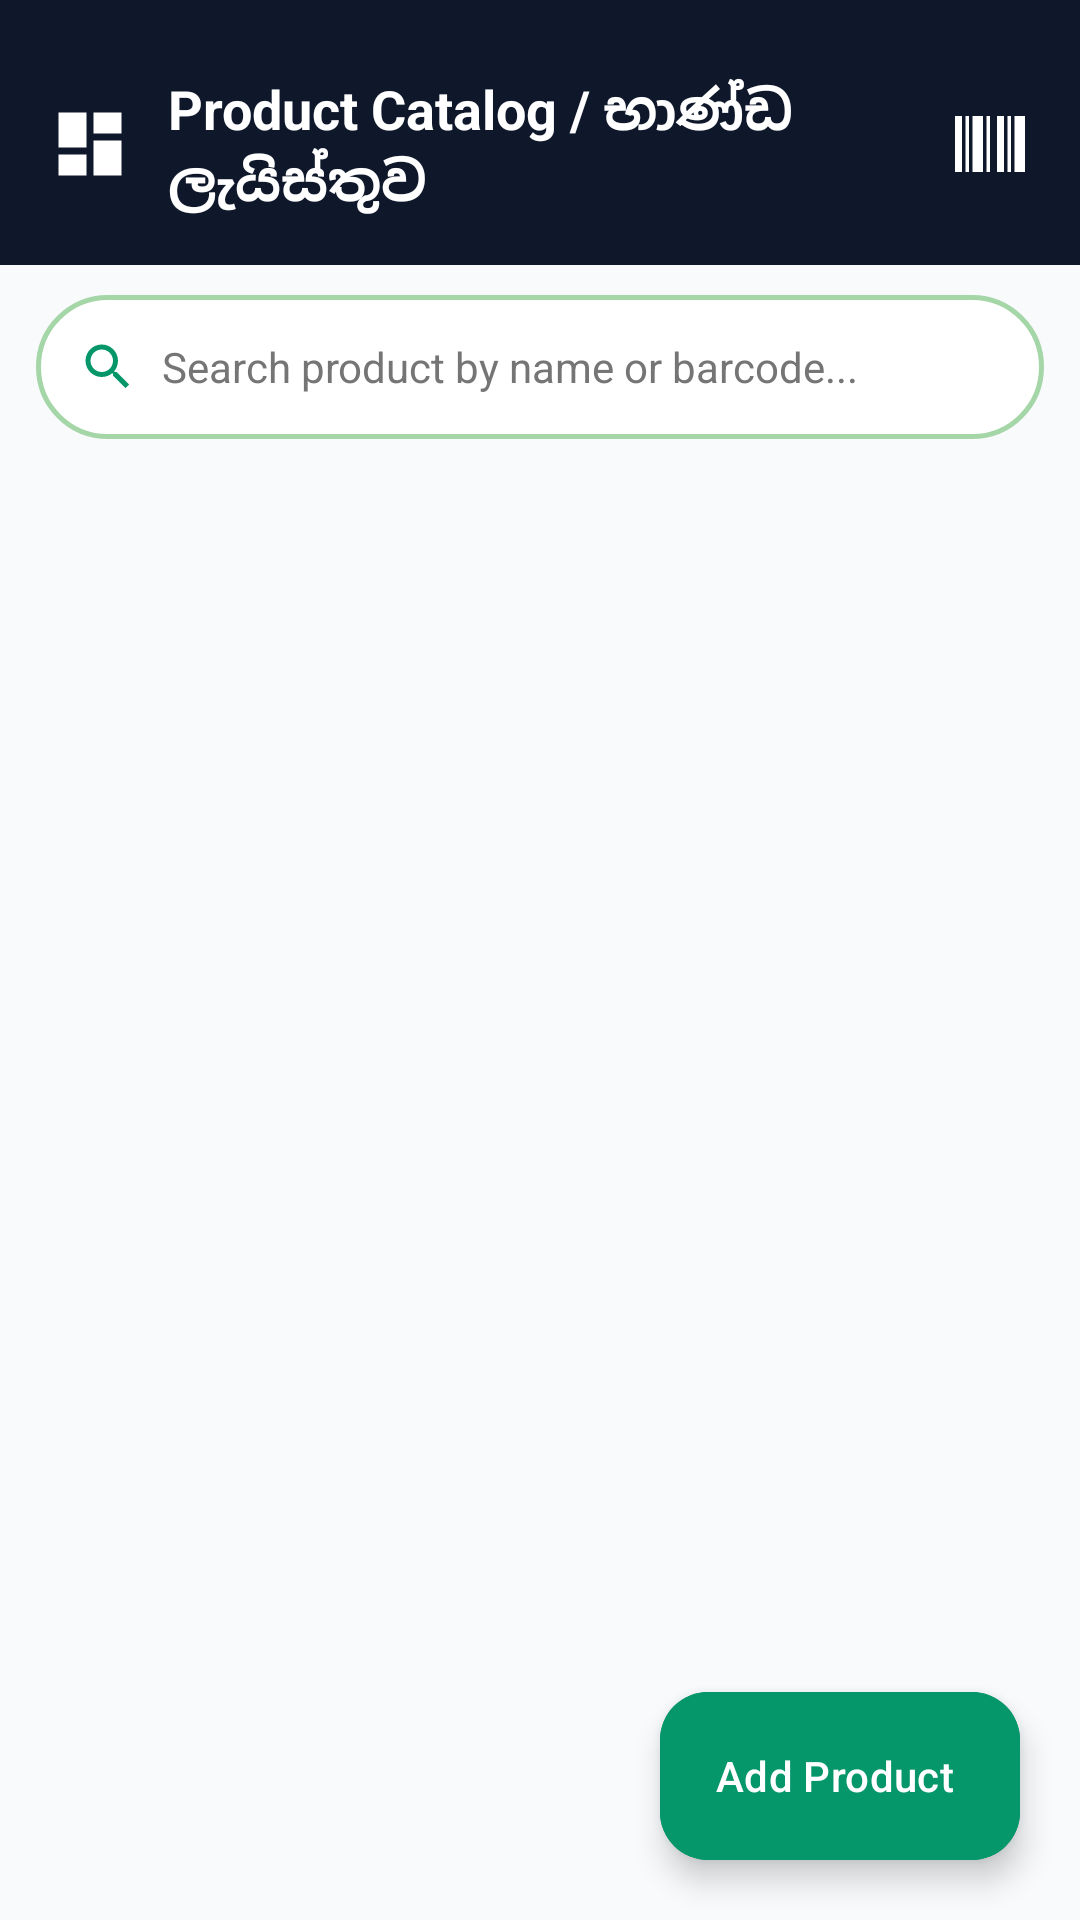

Screen size 1080px x 1920px. Icon name, then its box in pixels as (x1, y1, x2, y2):
barcode scan: (955, 116, 1025, 172)
